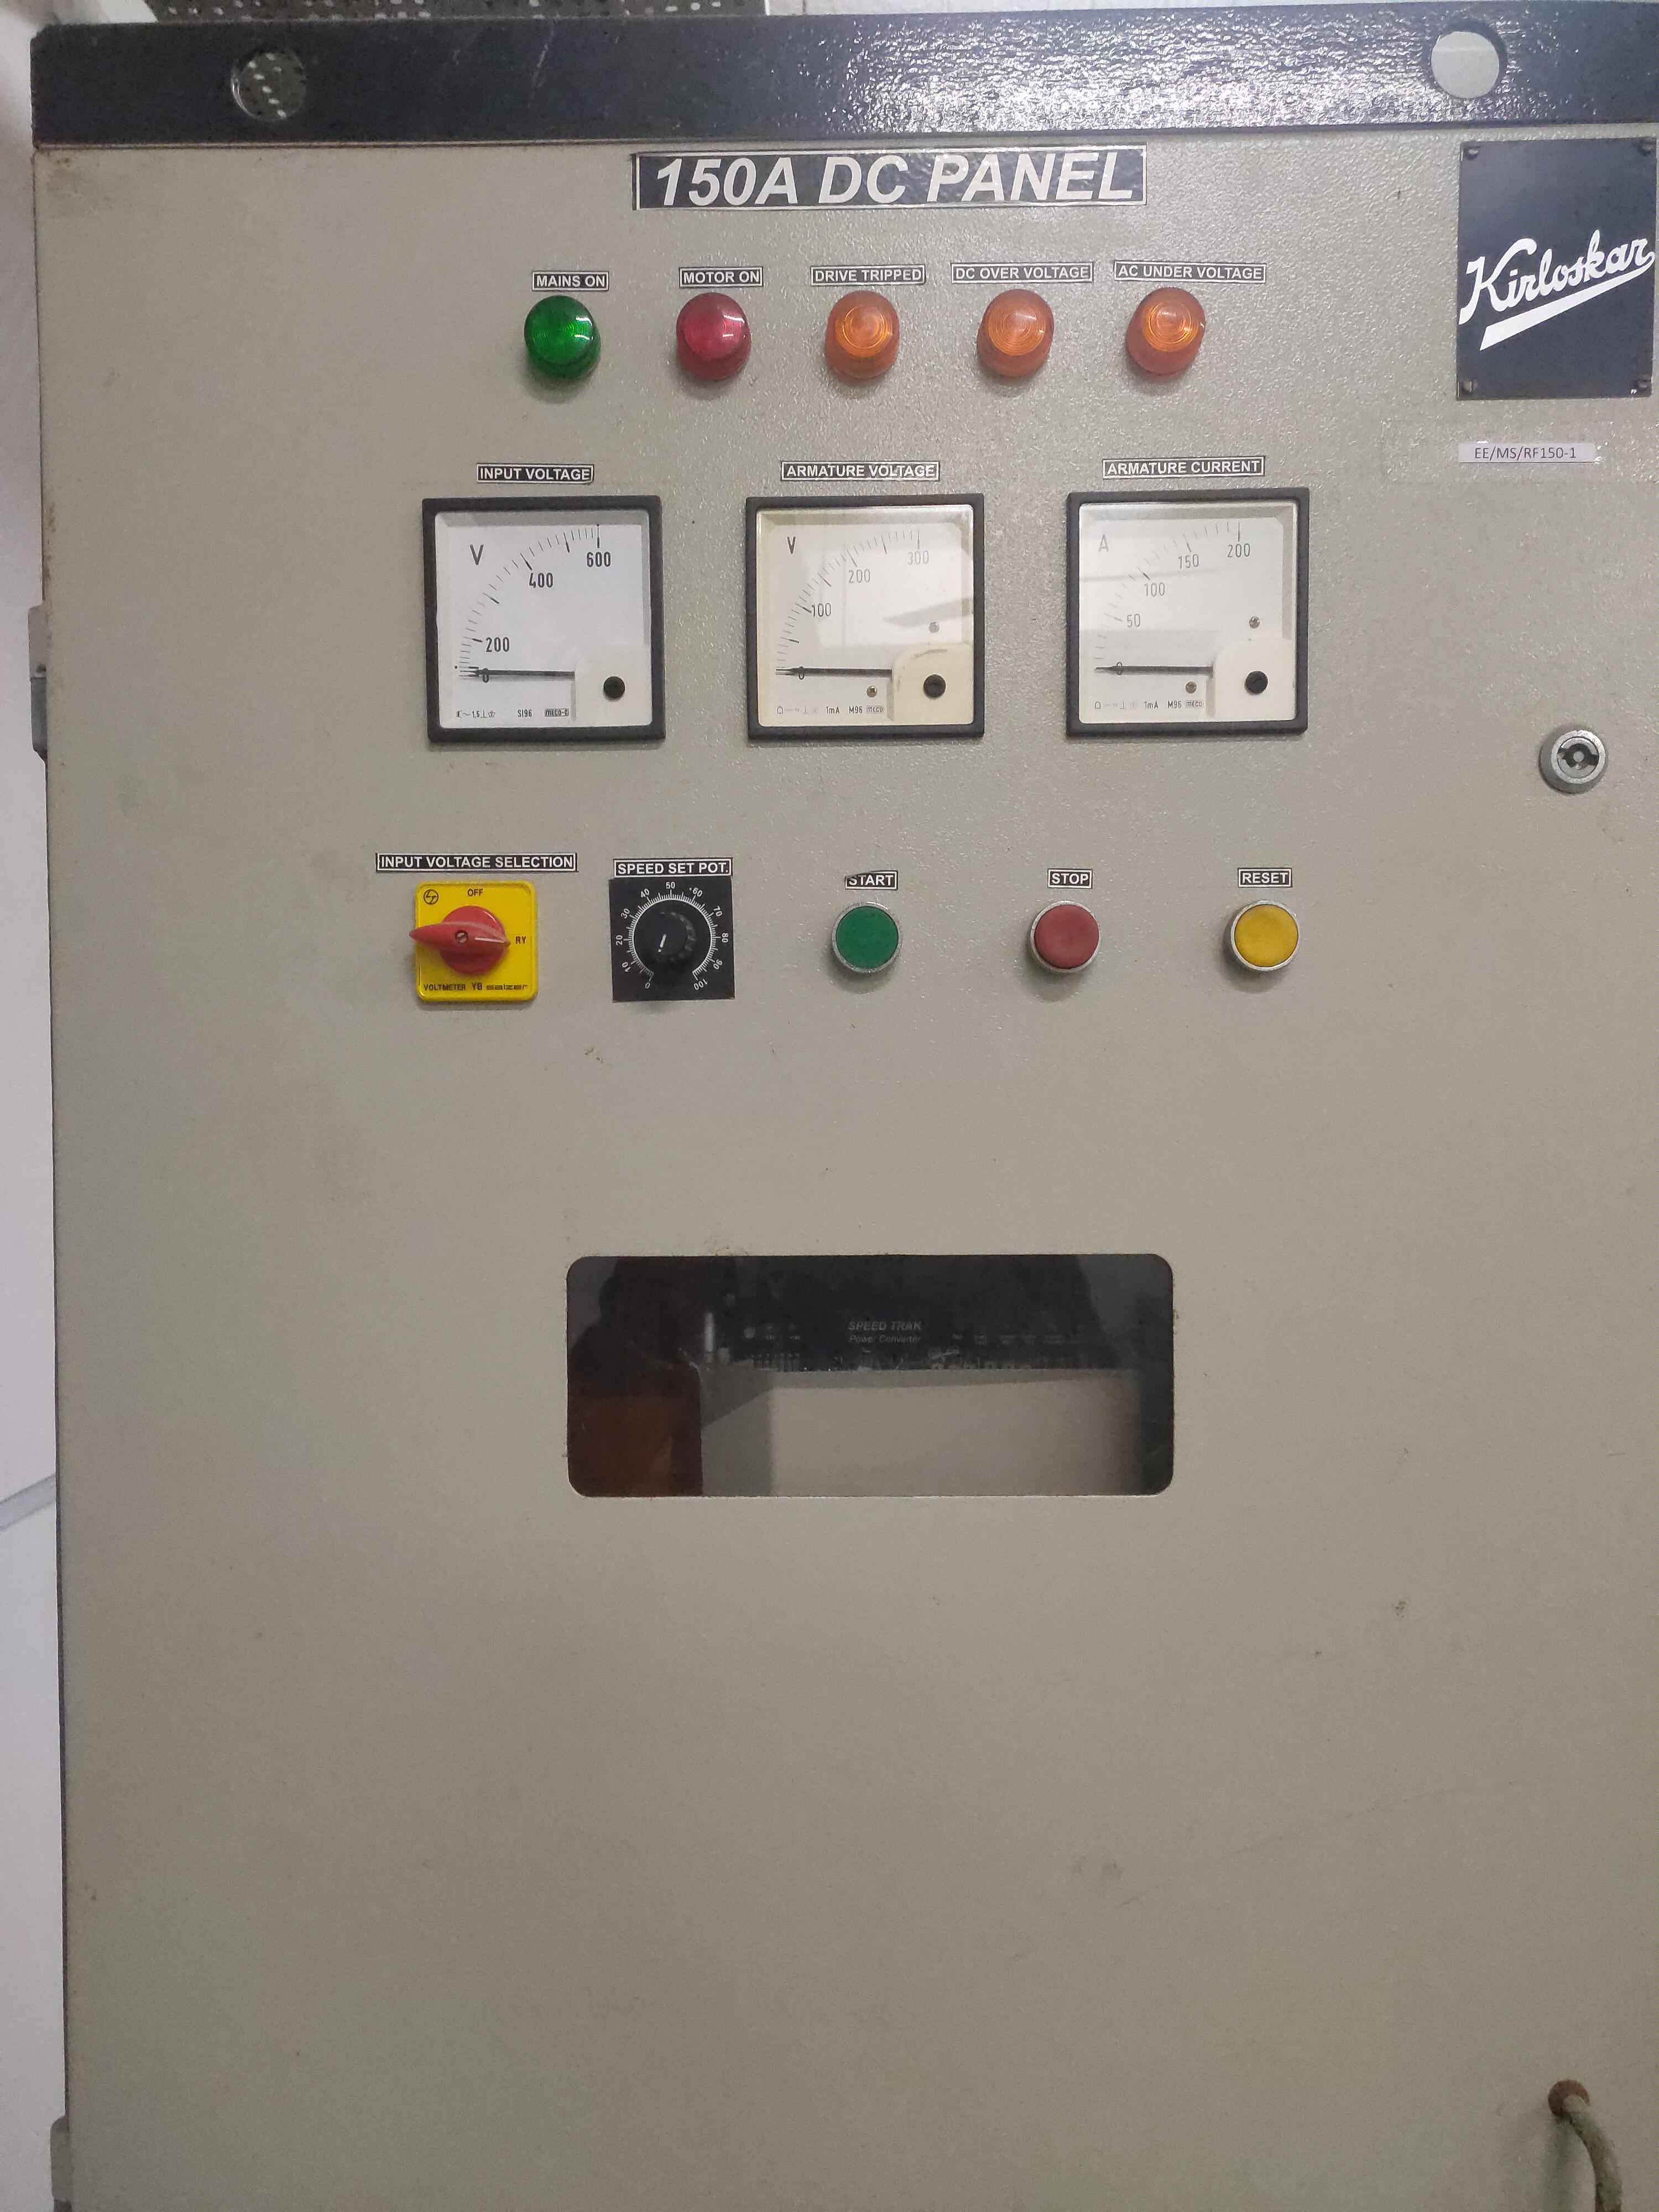Light Indications: (490, 247, 1230, 441)
